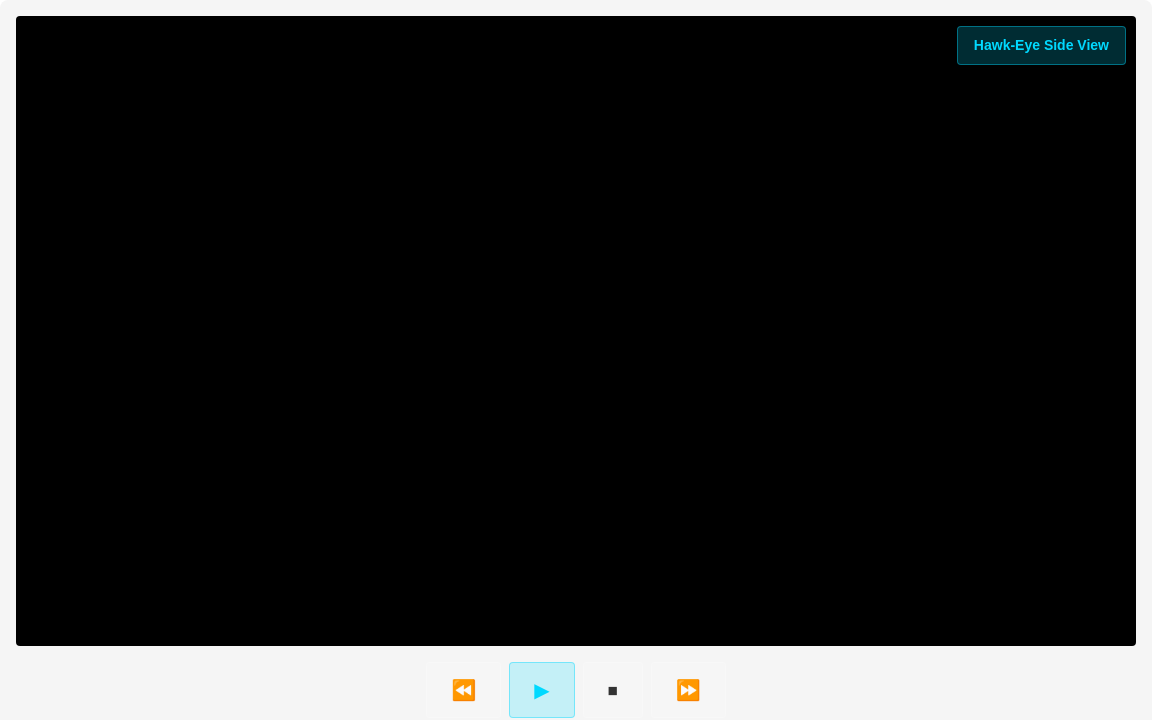
Scenario: Trajectory Replay Integration › toggles to pause button when playing
Click the button named "play": [542, 690] box [509, 662, 575, 718]
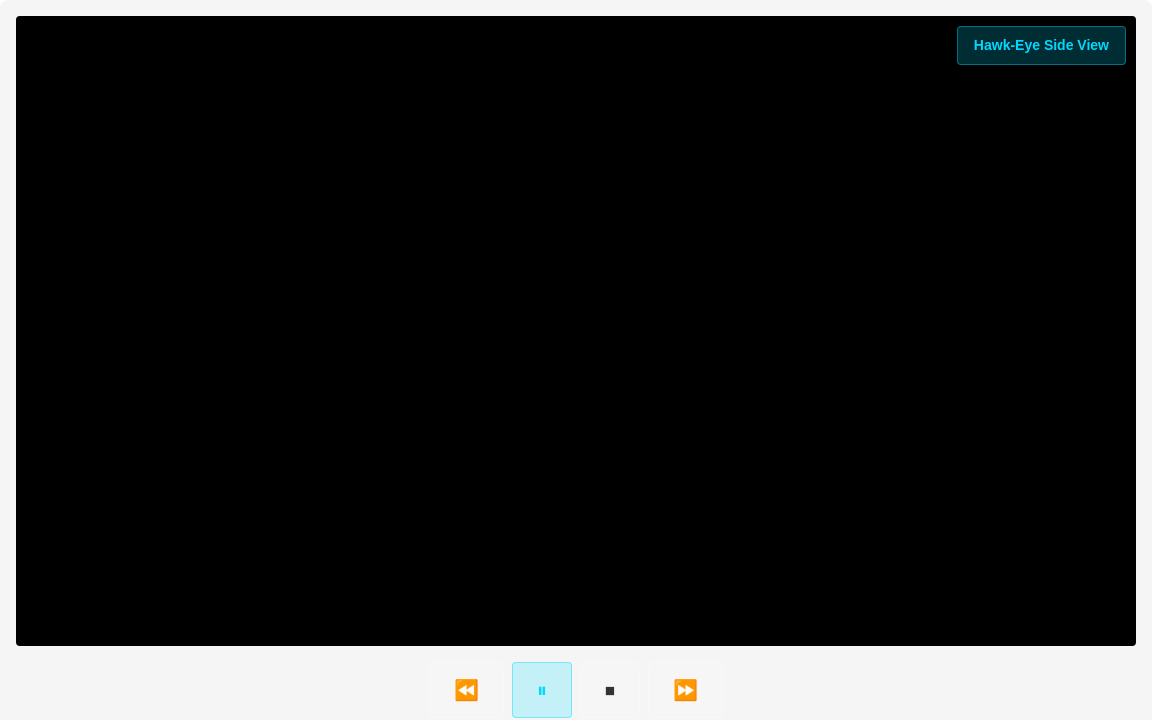
expect the button named "pause" reads "⏸": met, box [512, 662, 572, 718]
